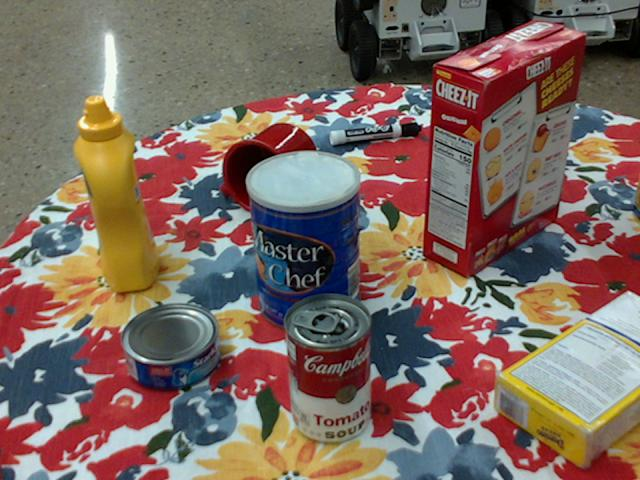cracker_box: (426, 21, 587, 277)
gelatin_box: (489, 123, 552, 176)
large_marker: (329, 120, 421, 144)
master_chef_can: (244, 149, 359, 333)
mug: (220, 122, 316, 217)
mustard_bottle: (73, 96, 159, 292)
potted_meat_can: (633, 173, 639, 221)
sugar_box: (494, 290, 639, 467)
tomato_soup_can: (282, 292, 370, 443)
tuna_fish_can: (118, 302, 218, 388)
